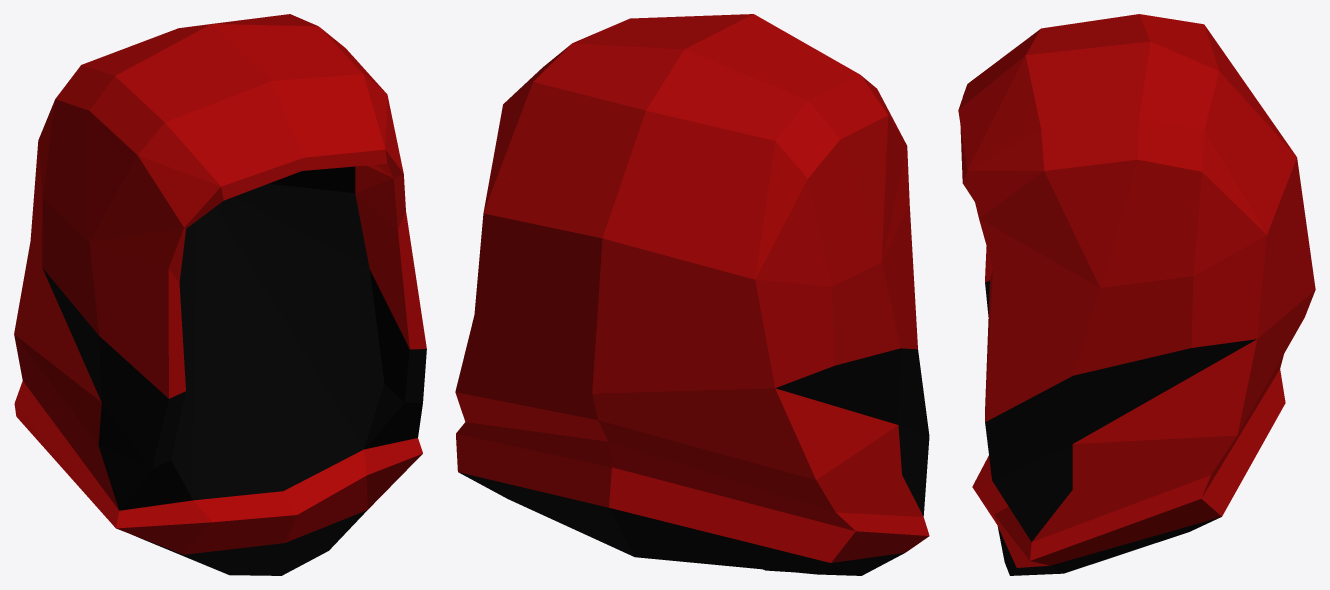
The model's file is Chr_HeadCoverings_NoHair_Static_12.fbx.
3 views of the same model, side by side, from view 1: azimuth 30°, elevation 25°; view 2: azimuth 150°, elevation 25°; view 3: azimuth 270°, elevation 25° (orthographic). The views are drawn at different scales.
Parts seen in each view (by area): view 1: Chr_HeadCoverings_No_Hair_12; view 2: Chr_HeadCoverings_No_Hair_12; view 3: Chr_HeadCoverings_No_Hair_12.
Boxes of the visible parts, left/top/right/bottom form: Chr_HeadCoverings_No_Hair_12: left=14, top=14, right=426, bottom=575; Chr_HeadCoverings_No_Hair_12: left=455, top=14, right=929, bottom=575; Chr_HeadCoverings_No_Hair_12: left=958, top=14, right=1315, bottom=575.
Bounding box in the file's own units: 31.93 × 44.28 × 27.53.
